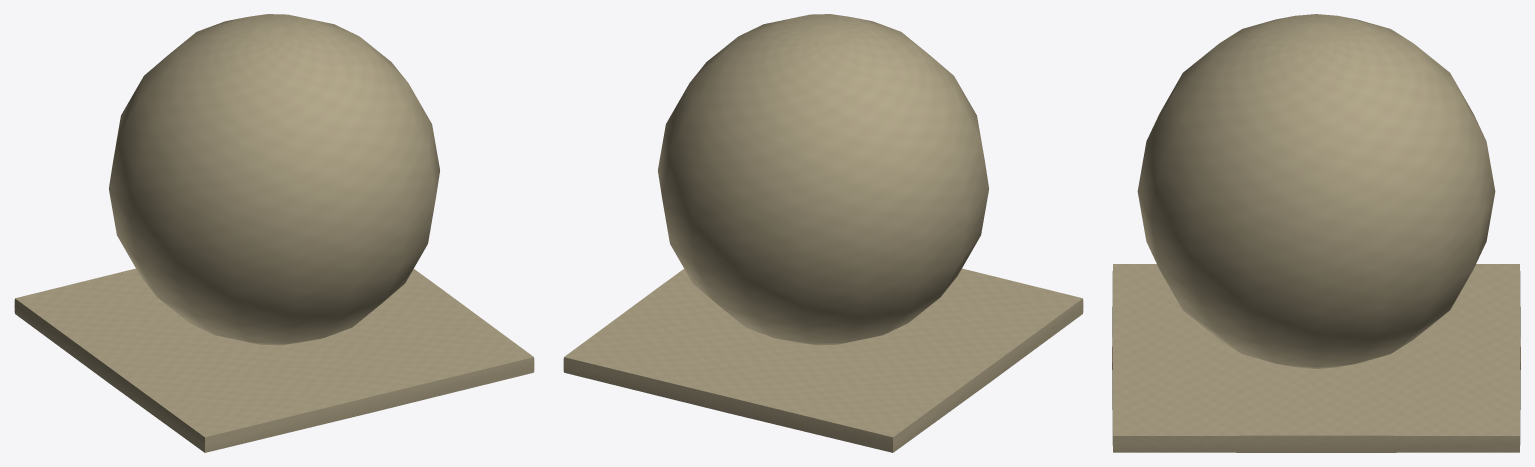
3 renders of one model, left to right at view 1: azimuth 30°, elevation 25°; view 2: azimuth 150°, elevation 25°; view 3: azimuth 270°, elevation 25°, orthographic. The views are drawn at different scales.
Parts seen in each view (by area): view 1: surface.0, surface.1; view 2: surface.0, surface.1; view 3: surface.0, surface.1.
Part boxes in pixels (x1=…): surface.0: x1=109, y1=14, x2=439, y2=345; surface.1: x1=14, y1=268, x2=534, y2=452; surface.0: x1=658, y1=14, x2=988, y2=345; surface.1: x1=563, y1=268, x2=1083, y2=452; surface.0: x1=1137, y1=14, x2=1495, y2=368; surface.1: x1=1112, y1=264, x2=1520, y2=452.
Bounding box in the file's own units: 0.8 × 0.73 × 0.8.
1 material, 1 textured.
